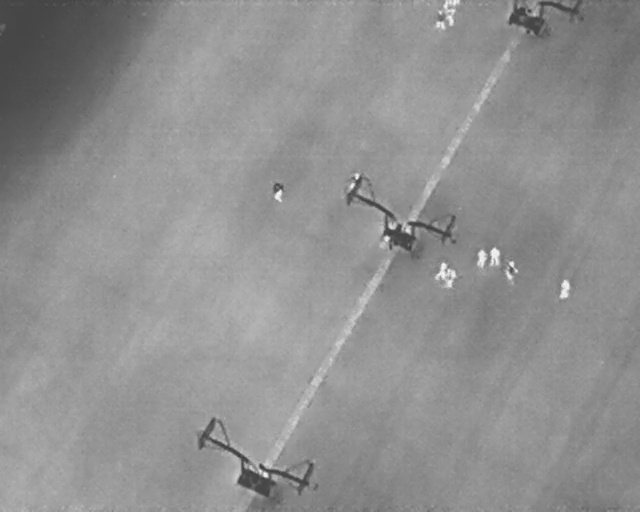Person: (433, 258, 450, 282), (474, 247, 489, 271), (557, 277, 572, 300), (444, 267, 459, 289), (505, 260, 518, 282), (489, 245, 501, 268), (272, 183, 285, 202), (444, 7, 456, 27), (435, 9, 446, 30), (385, 218, 400, 231), (379, 233, 391, 248), (443, 0, 461, 7)
